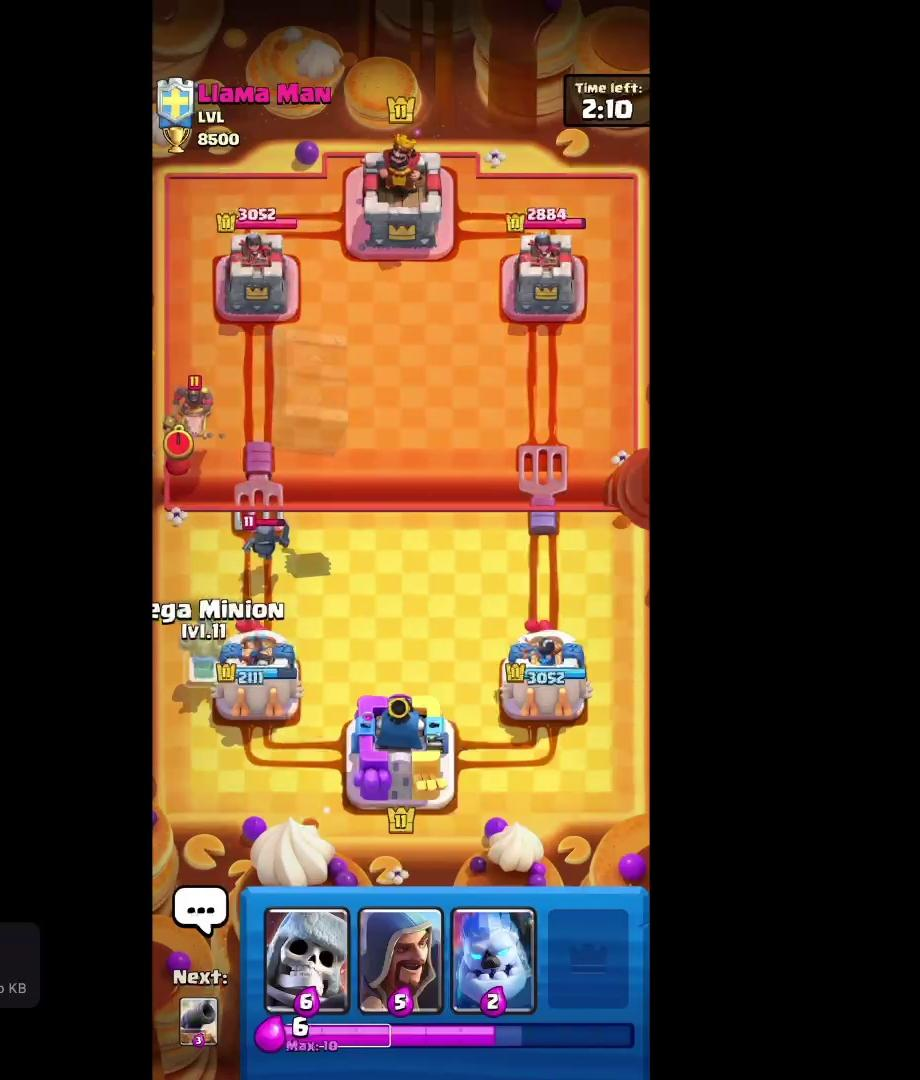Hog Rider: (164, 368, 224, 450)
Mini Pekka: (237, 504, 299, 569)
